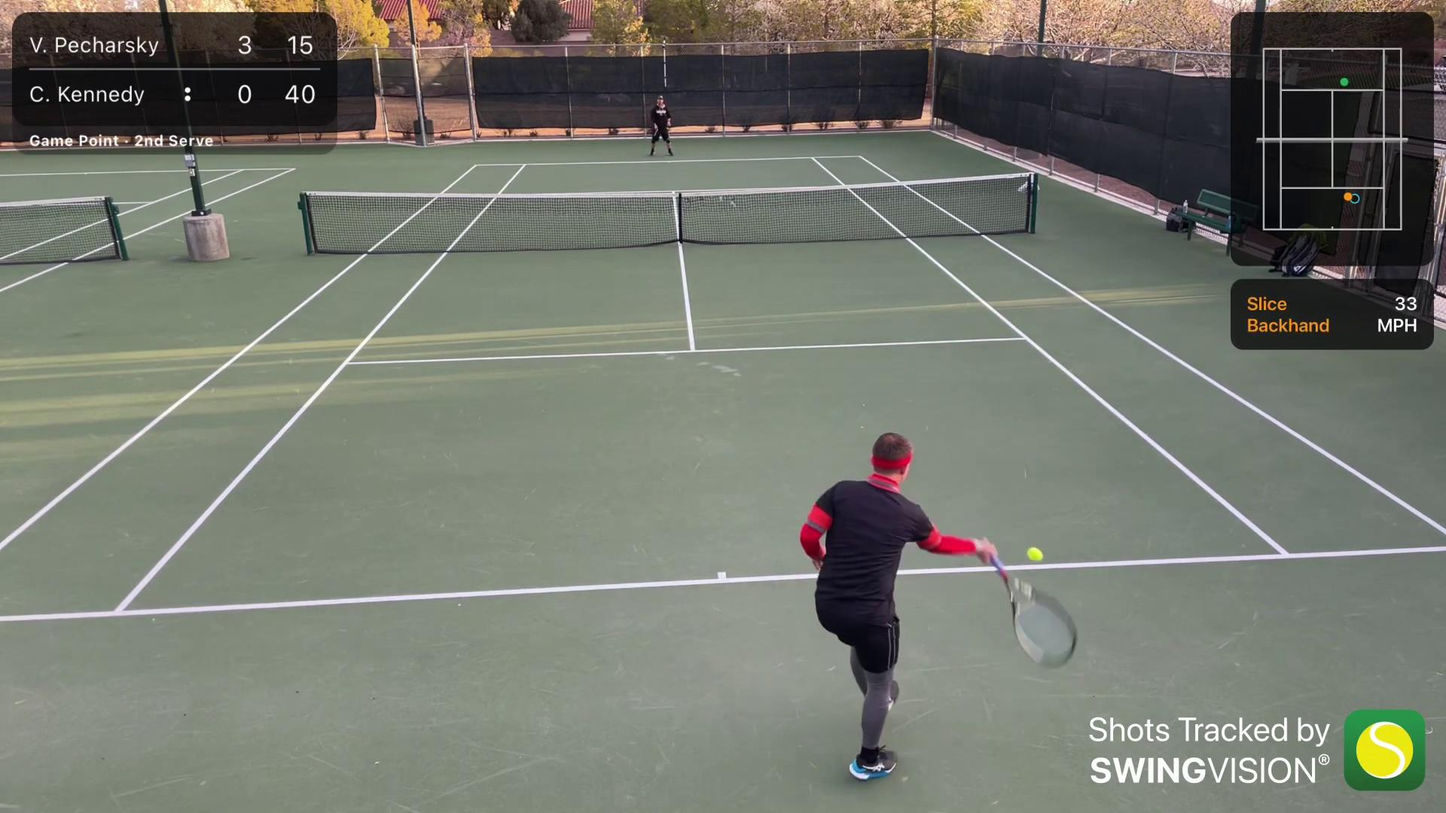ball: (1020, 542, 1052, 566)
